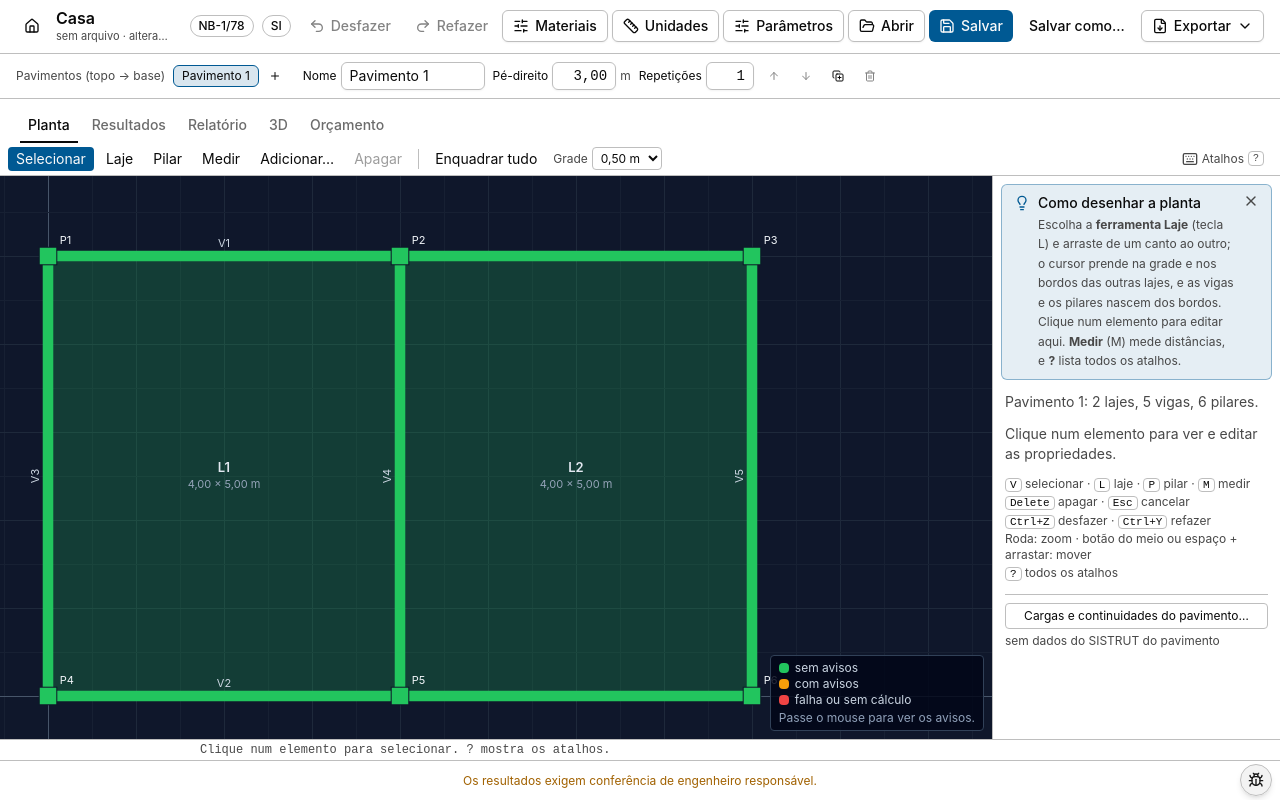
diálogo de materiais: foco ao fechar › ao fechar com Esc, o foco volta ao botão Materiais
The width and height of the screenshot is (1280, 800).
Expected: the heading "Casa" is shown, [56,8,95,28]
Click the button "Materiais" at (555,26), box [502,10,608,42]
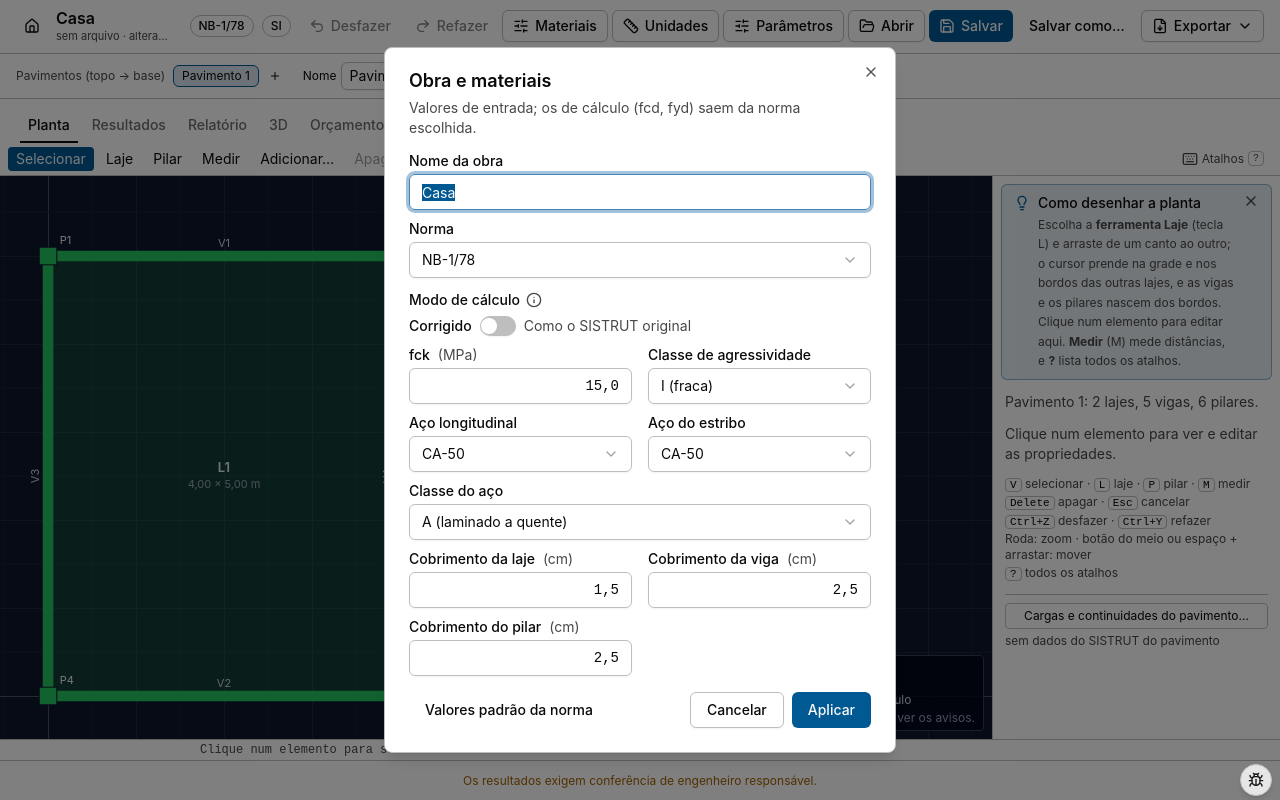
Press Escape
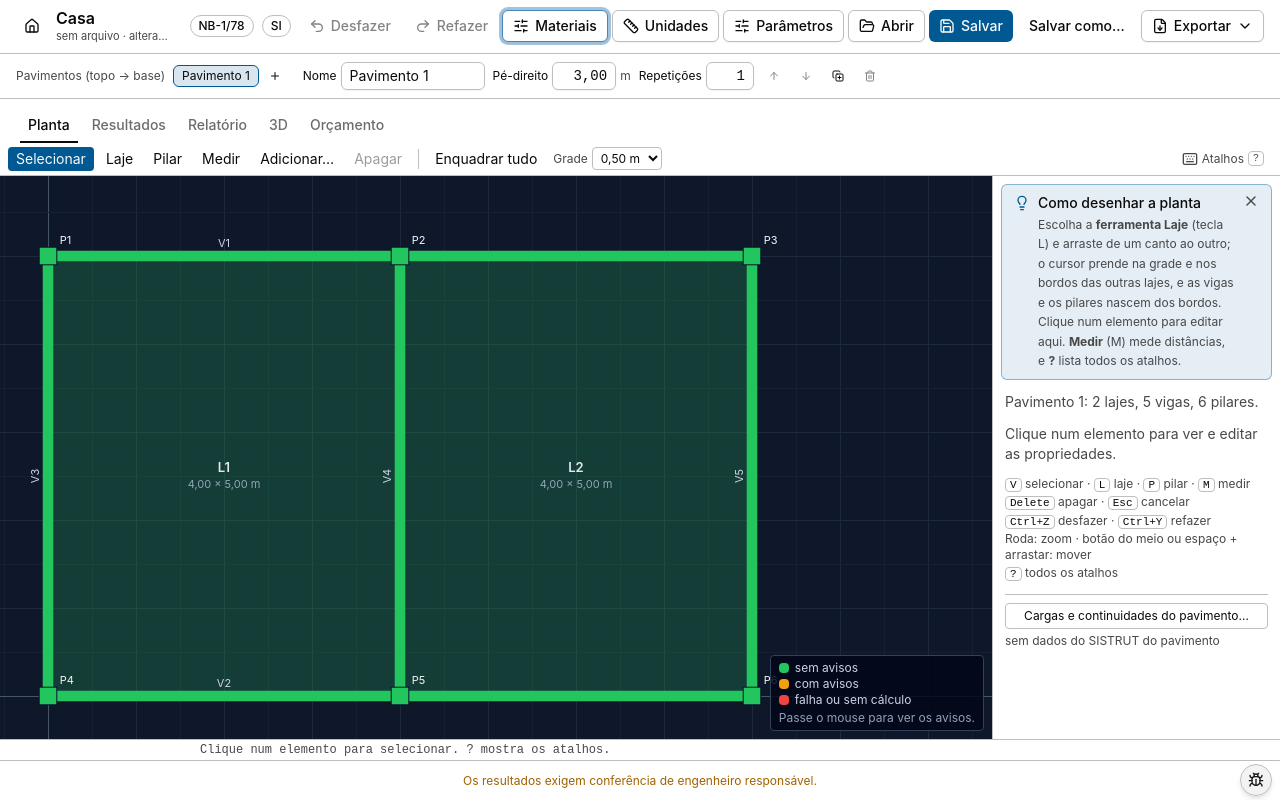
Result: the dialog is gone
